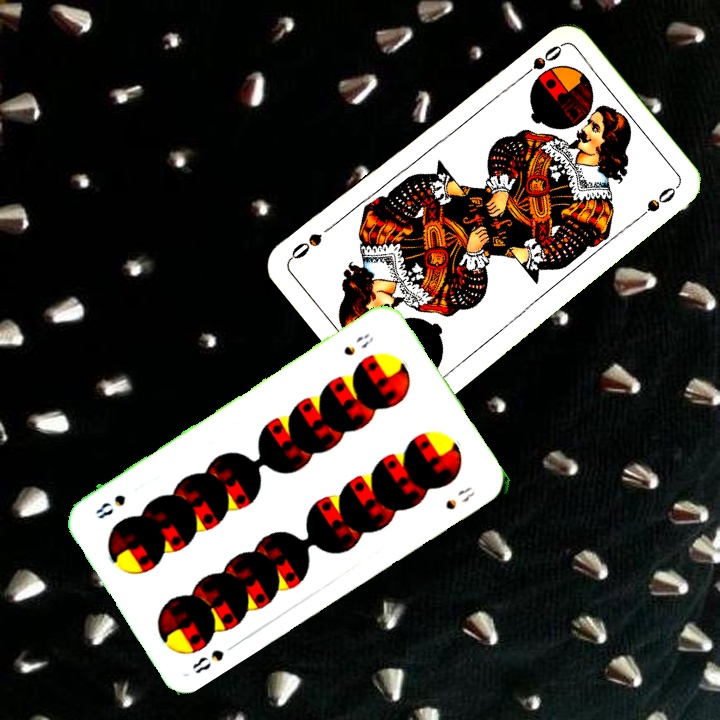S8: (188, 645, 227, 677), (339, 329, 377, 359)
SO: (514, 41, 565, 83)
